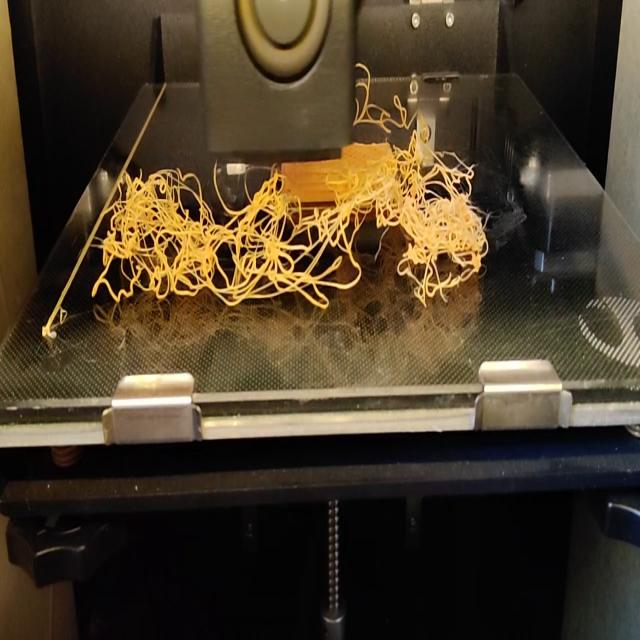spaghetti: (86, 152, 494, 304), (352, 54, 428, 150)
